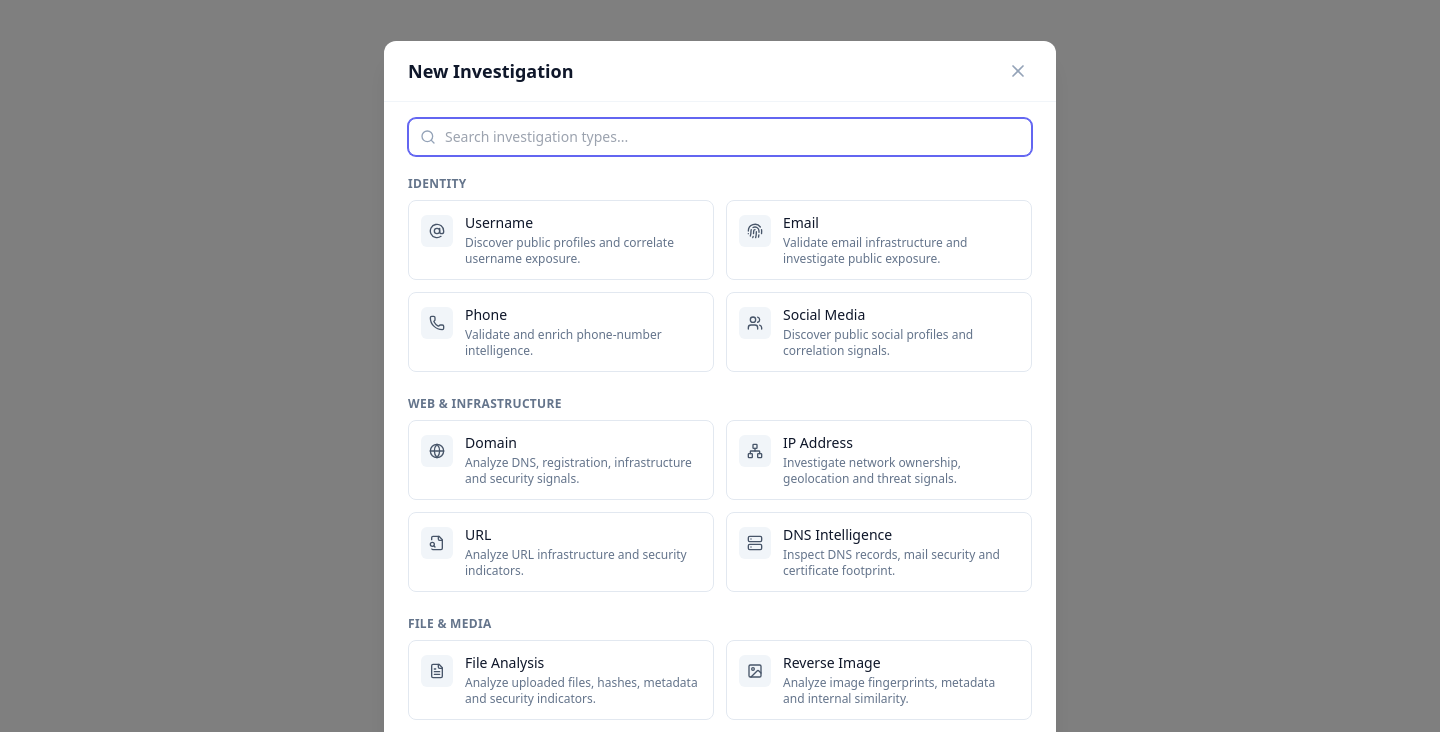
Test case: NewInvestigationModal › submits a text-based investigation and shows the success transition
Click the button with aria-label "Start a Username investigation": click(561, 240) [408,200,714,280]
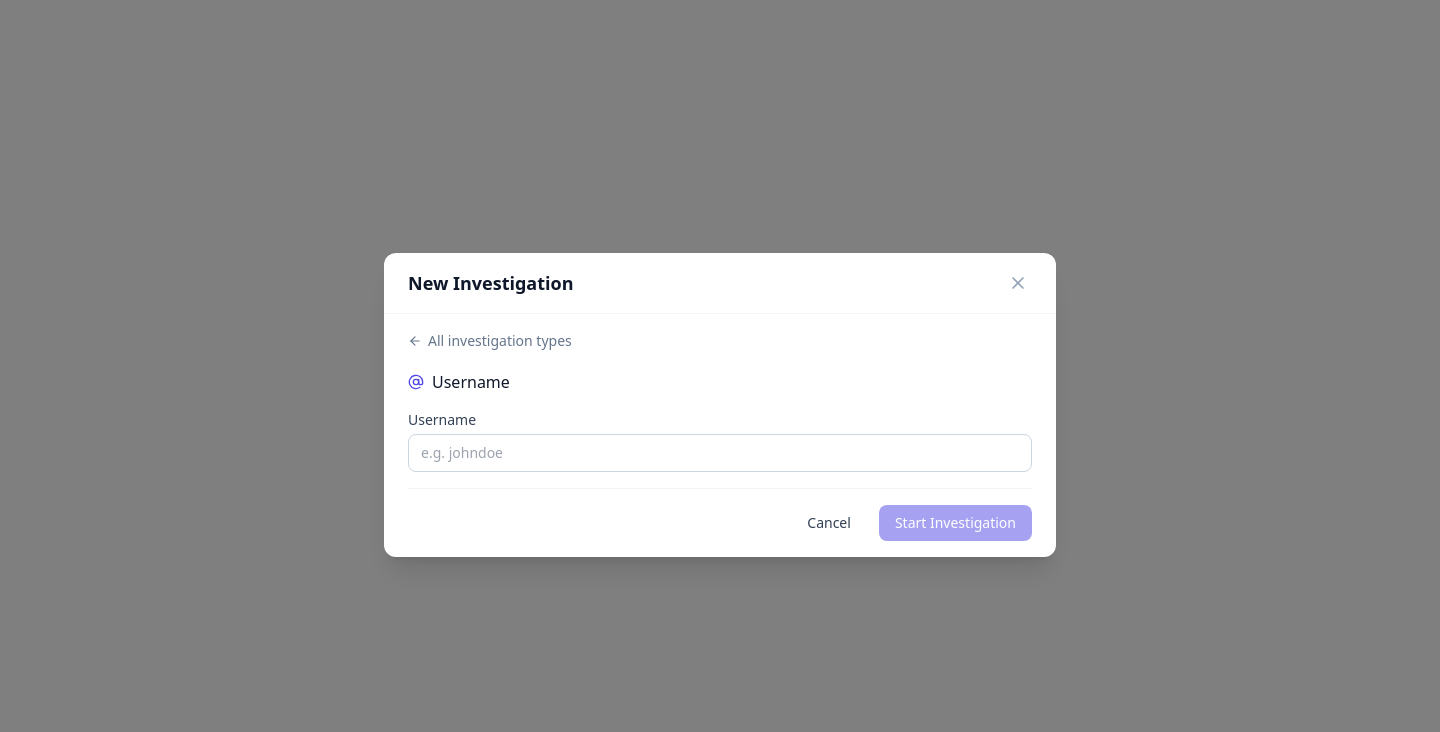
In the field labelled "Username": (720, 453) [408,434,1032,472], type "johndoe"
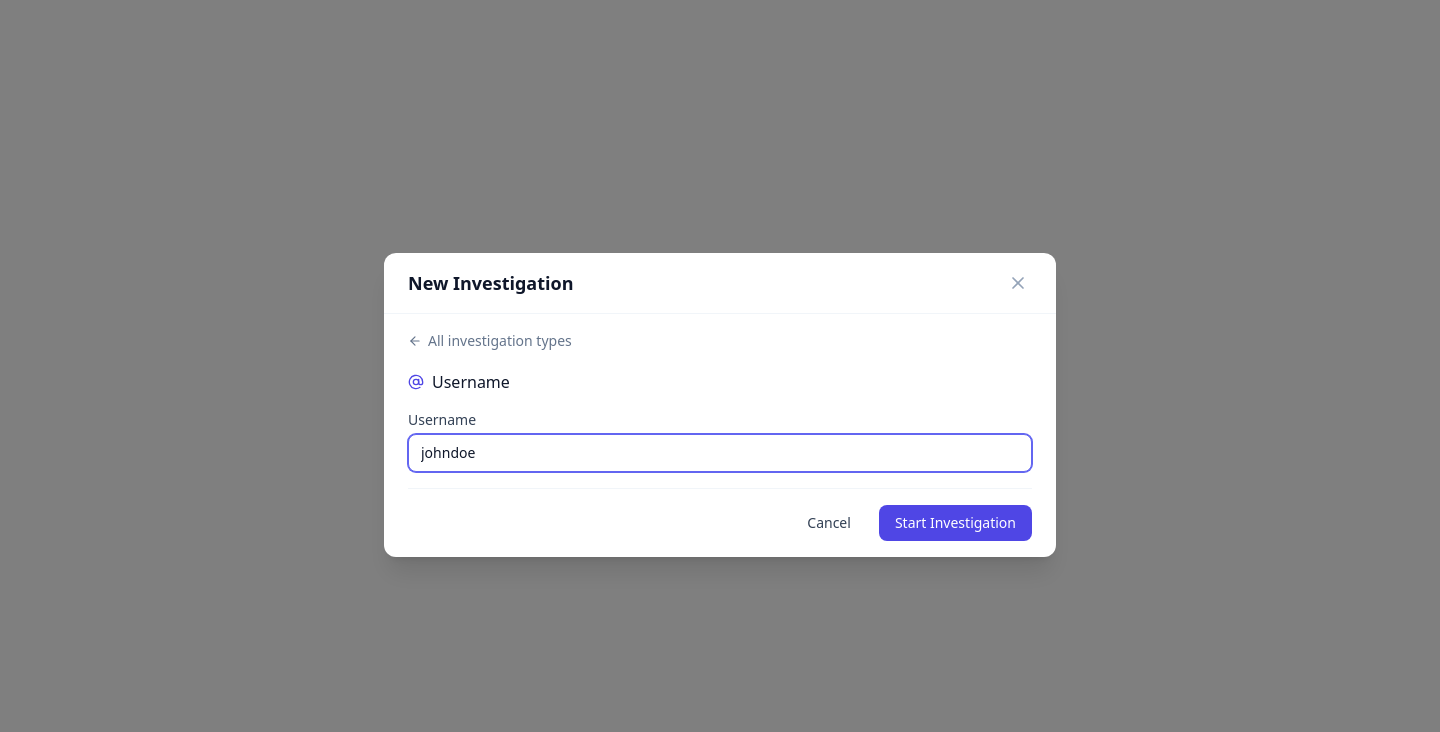
Click the button "Start Investigation": click(955, 523) [879,505,1032,541]
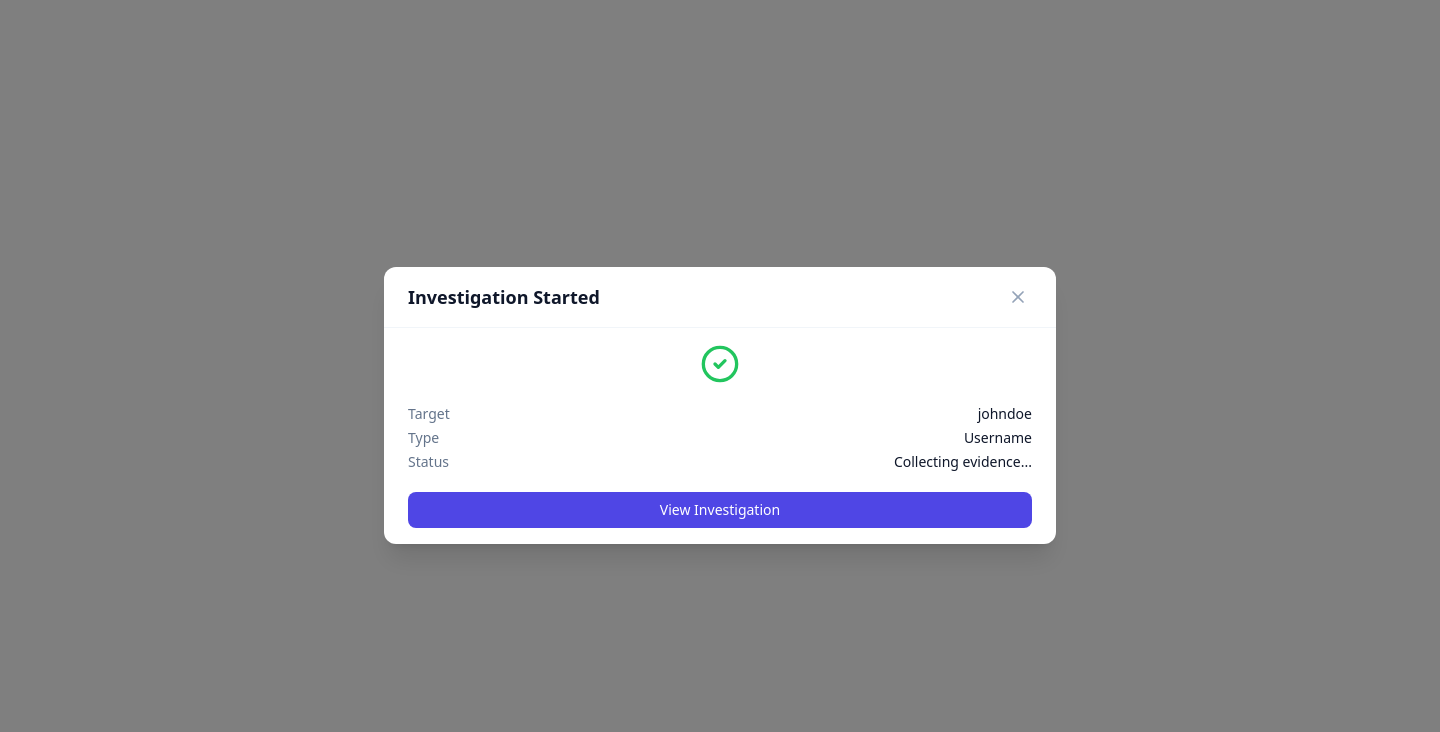
Result: the heading "Investigation Started" is shown at [408,282,600,310]
Result: the text "johndoe" is shown at [978,404,1032,424]
